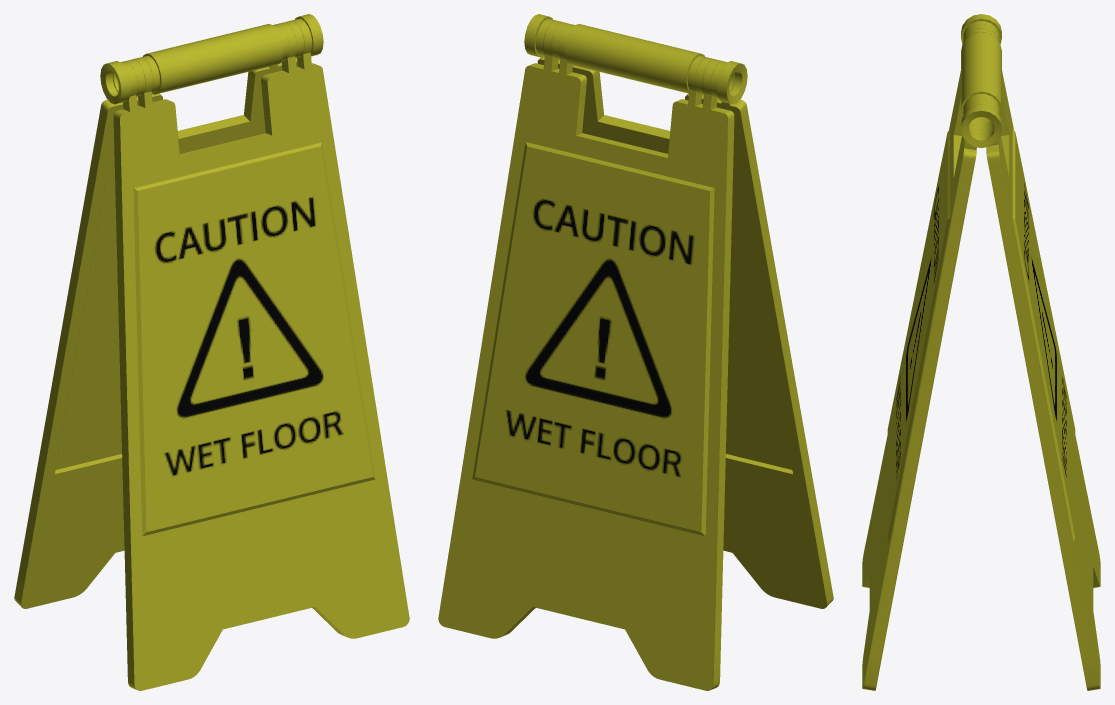
File: Wet_Floor_Sign.fbx
3 views of the same model, side by side, from view 1: azimuth 30°, elevation 25°; view 2: azimuth 150°, elevation 25°; view 3: azimuth 270°, elevation 25° (orthographic).
Parts seen in each view (by area): view 1: Back, Front, Top; view 2: Front, Back, Top; view 3: Back, Front, Top.
Part boxes in pixels (x1,y1,x2,y2): Back: [113, 19, 409, 690]; Front: [14, 20, 304, 608]; Top: [100, 14, 323, 104]; Front: [438, 20, 734, 690]; Back: [535, 19, 833, 608]; Top: [524, 14, 747, 104]; Back: [862, 21, 999, 690]; Front: [963, 24, 1100, 690]; Top: [961, 14, 1001, 147].
Size of the model in its own units: 2.42 by 4.84 by 1.85.
Materials: 1 (1 with a texture image).
